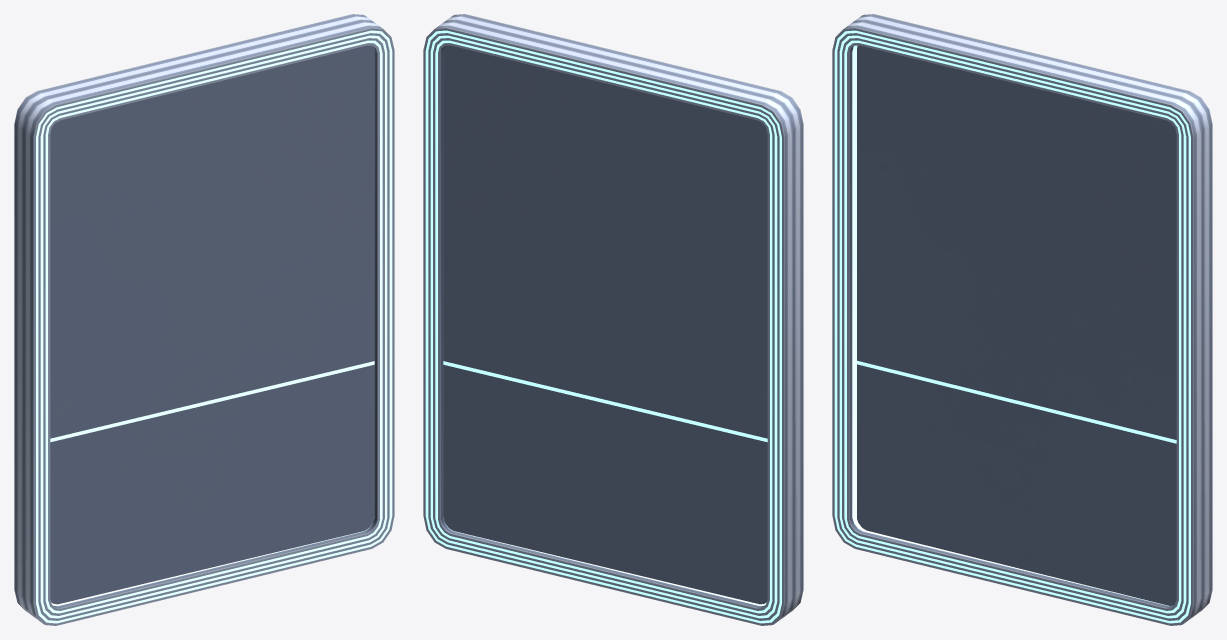
File: obj_estates.gltf
3 views of the same model, side by side, from view 1: azimuth 30°, elevation 25°; view 2: azimuth 150°, elevation 25°; view 3: azimuth 330°, elevation 25° (orthographic).
Visible parts, largest first — view 1: obj_estates; view 2: obj_estates; view 3: obj_estates.
Boxes of the visible parts, x1=… form: obj_estates: x1=14, y1=14, x2=394, y2=625; obj_estates: x1=423, y1=14, x2=803, y2=625; obj_estates: x1=832, y1=14, x2=1212, y2=625.
Size of what is drawn, in the model's own units: 2.04 by 2.81 by 0.1875.
Materials: 2 (1 with a texture image).
